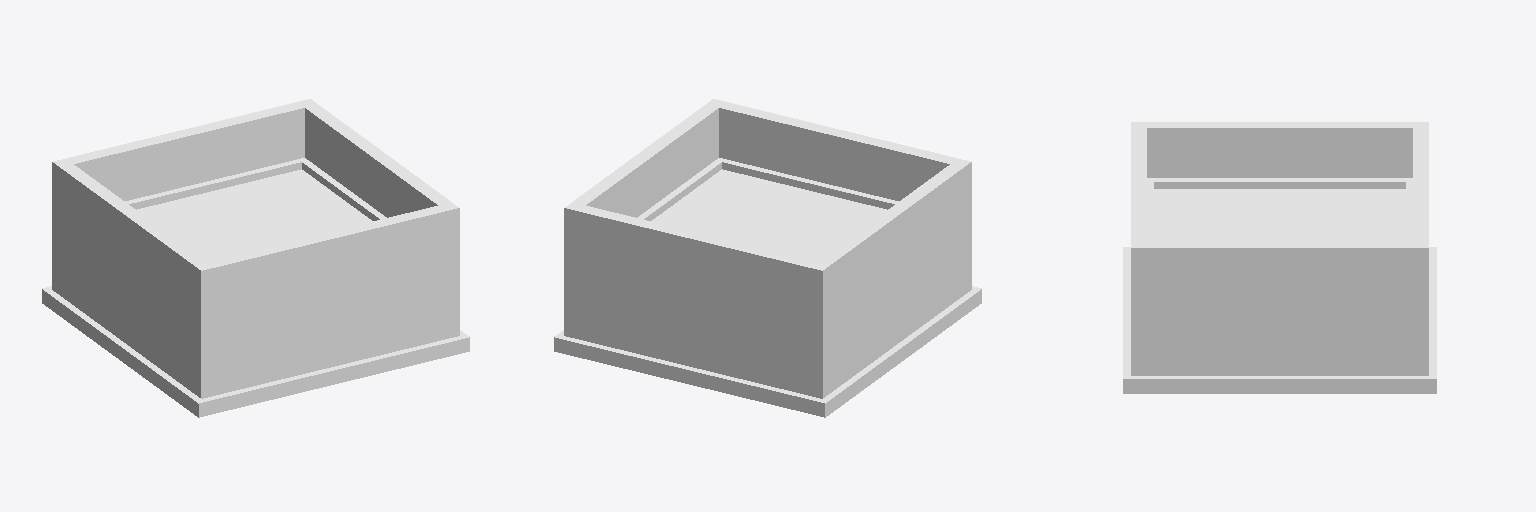
Rendered from PoolBuilding.obj.
The picture shows the model from 3 angles: view 1: azimuth 30°, elevation 25°; view 2: azimuth 150°, elevation 25°; view 3: azimuth 270°, elevation 25°; orthographic projection.
Size of the model in its own units: 40 by 20 by 40.